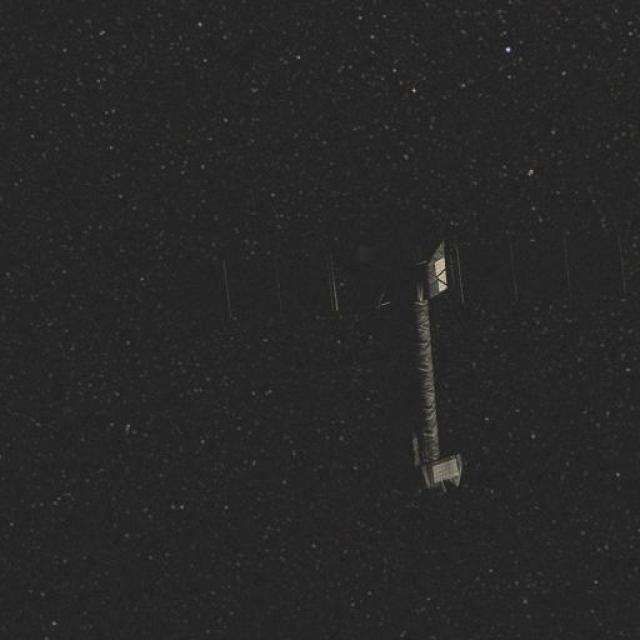xmm_newton: (318, 228, 566, 522)
